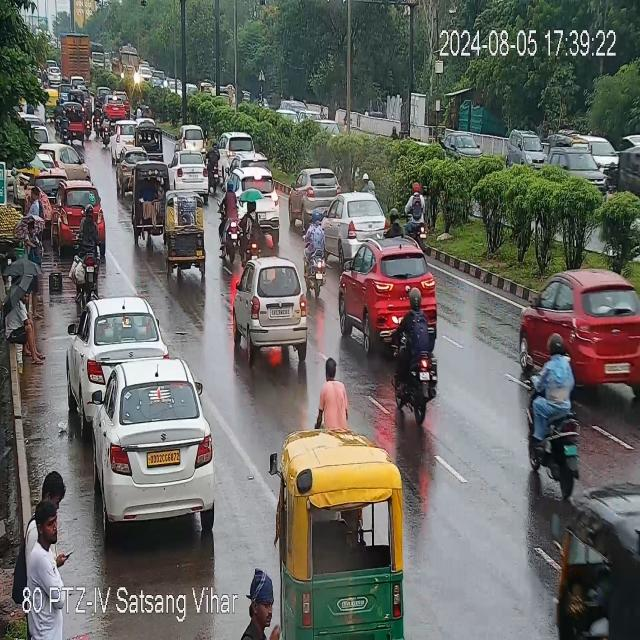2-wheelers: (520, 336, 588, 495), (382, 276, 442, 424), (71, 204, 101, 296), (403, 182, 441, 242), (305, 210, 333, 290), (220, 180, 236, 256), (239, 194, 259, 251), (209, 138, 219, 189), (99, 112, 112, 146), (85, 105, 92, 138)
auto: (275, 428, 407, 640), (546, 486, 640, 640), (166, 190, 210, 279), (130, 162, 165, 245), (135, 122, 164, 162), (63, 104, 86, 144)
car: (92, 358, 216, 524), (519, 264, 640, 392), (340, 238, 451, 350), (72, 295, 163, 400), (230, 259, 314, 367), (326, 190, 398, 243), (544, 147, 610, 196), (227, 166, 278, 225), (294, 166, 341, 214), (34, 141, 92, 179), (170, 151, 212, 194), (506, 130, 546, 167), (442, 129, 484, 162), (116, 150, 147, 193), (216, 133, 254, 167), (181, 125, 206, 152), (104, 94, 129, 120)
pedestrian: (21, 468, 66, 640), (3, 291, 48, 366), (25, 189, 49, 242)
truck: (61, 30, 92, 87), (117, 45, 141, 87)
